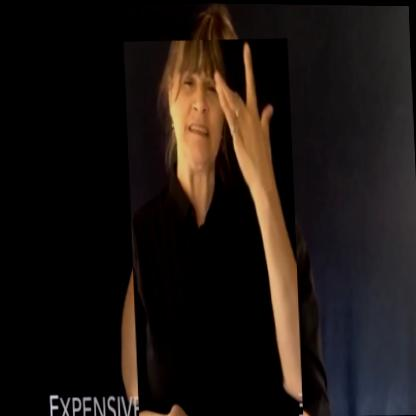Expensive: (123, 35, 302, 416)
